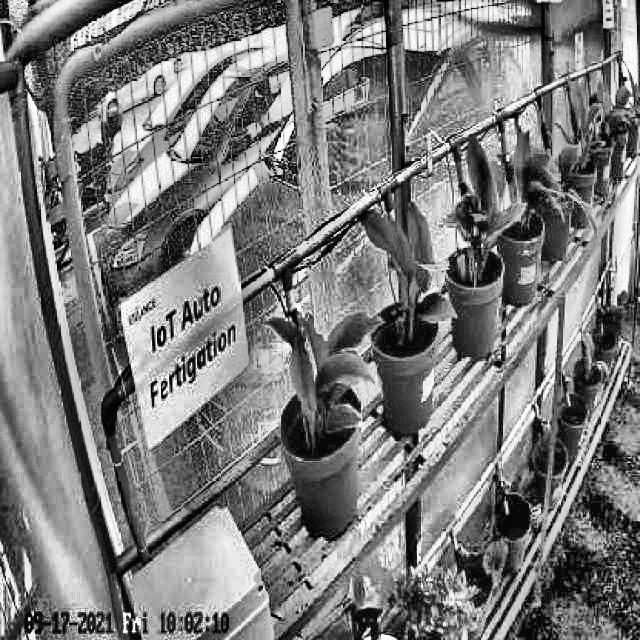plants: (265, 312, 384, 434), (360, 202, 457, 328), (447, 135, 513, 274), (508, 122, 562, 236), (572, 90, 608, 166)
